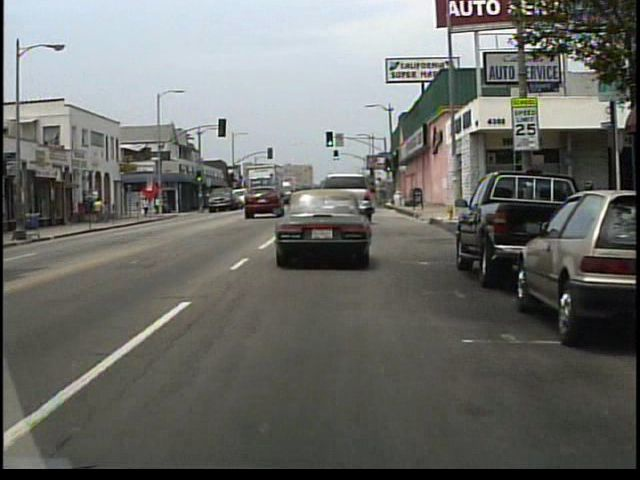person: (95, 197, 105, 223), (103, 199, 111, 223), (142, 197, 151, 217)
